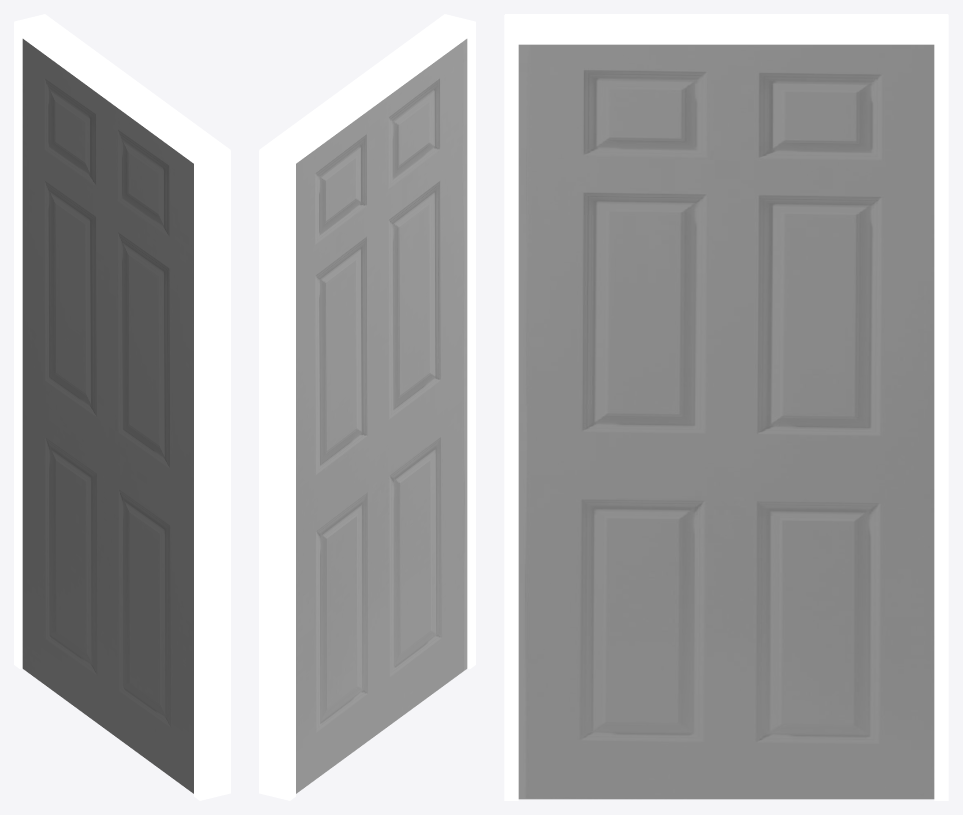
Rendered from solid_walkinOld.c30eddef.gltf.
The picture shows the model from 3 angles, left to right: view 1: azimuth 30°, elevation 25°; view 2: azimuth 150°, elevation 25°; view 3: azimuth 270°, elevation 25°; orthographic projection. The views are drawn at different scales.
Parts seen in each view (by area): view 1: doors, trims; view 2: doors, trims; view 3: doors, trims.
Boxes of the visible parts, x1,y1,x2,y2 form: doors: (22, 39, 193, 793); trims: (14, 14, 230, 800); doors: (296, 39, 467, 793); trims: (259, 14, 475, 800); doors: (518, 44, 934, 799); trims: (504, 14, 948, 800).
Size of the model in its own units: 0.302 by 6.01 by 3.14.
2 materials, 1 textured.
